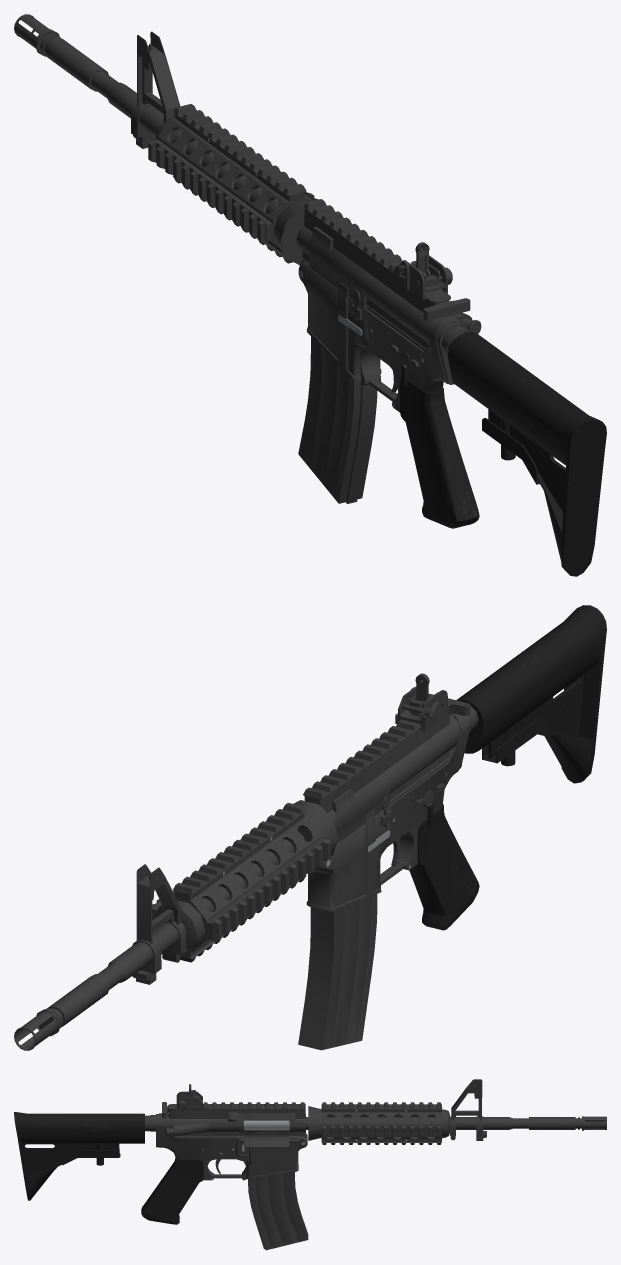
File: bunker47-gun-m4a1.glb
3 views of the same model, one above another, from view 1: azimuth 30°, elevation 25°; view 2: azimuth 150°, elevation 25°; view 3: azimuth 270°, elevation 25° (orthographic). The views are drawn at different scales.
Visible parts, largest first — view 1: Base, Barrel, Stock, Magazine, Sight; view 2: Base, Barrel, Stock, Magazine, Sight; view 3: Base, Barrel, Stock, Magazine, Ejector_Lid, Sight, Ejector_2.
Part boxes in pixels (x1=…): Base: x1=296, y1=199, x2=481, y2=528; Barrel: x1=14, y1=14, x2=318, y2=265; Stock: x1=441, y1=326, x2=606, y2=576; Magazine: x1=298, y1=336, x2=377, y2=503; Sight: x1=395, y1=255, x2=447, y2=299; Base: x1=303, y1=702, x2=479, y2=930; Barrel: x1=14, y1=800, x2=338, y2=1050; Stock: x1=456, y1=605, x2=606, y2=783; Magazine: x1=298, y1=894, x2=377, y2=1050; Sight: x1=395, y1=686, x2=447, y2=730; Base: x1=141, y1=1102, x2=307, y2=1224; Barrel: x1=306, y1=1079, x2=606, y2=1144; Stock: x1=14, y1=1112, x2=155, y2=1200; Magazine: x1=248, y1=1172, x2=308, y2=1250; Ejector_Lid: x1=237, y1=1132, x2=296, y2=1146; Sight: x1=176, y1=1090, x2=202, y2=1111; Ejector_2: x1=243, y1=1120, x2=289, y2=1128.
Size of the model in its own units: 6.36 by 26.63 by 85.88.
1 material, 1 textured.
